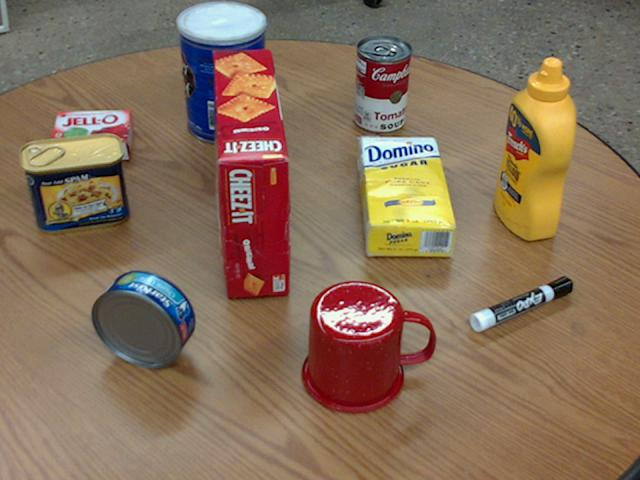cracker_box: (208, 49, 287, 296)
gelatin_box: (47, 108, 130, 158)
large_marker: (470, 277, 572, 332)
master_chef_can: (176, 1, 265, 143)
mug: (301, 280, 434, 413)
mustard_bottle: (494, 59, 575, 239)
potted_meat_can: (20, 131, 127, 231)
sugar_box: (358, 137, 455, 255)
tomato_soup_can: (353, 35, 411, 132)
tuna_fish_can: (92, 271, 195, 367)
